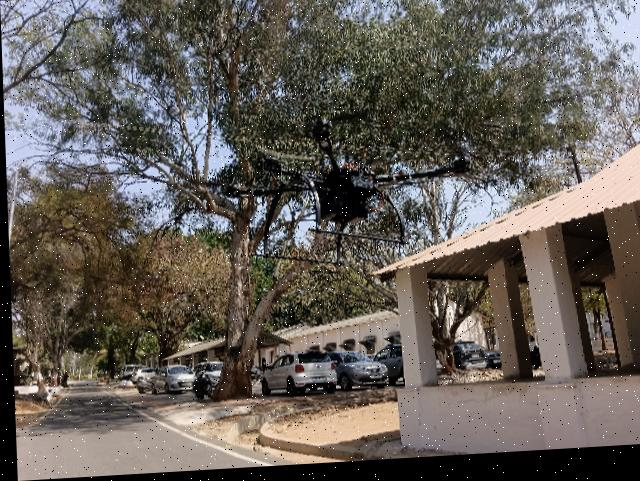drone: (184, 103, 490, 270)
